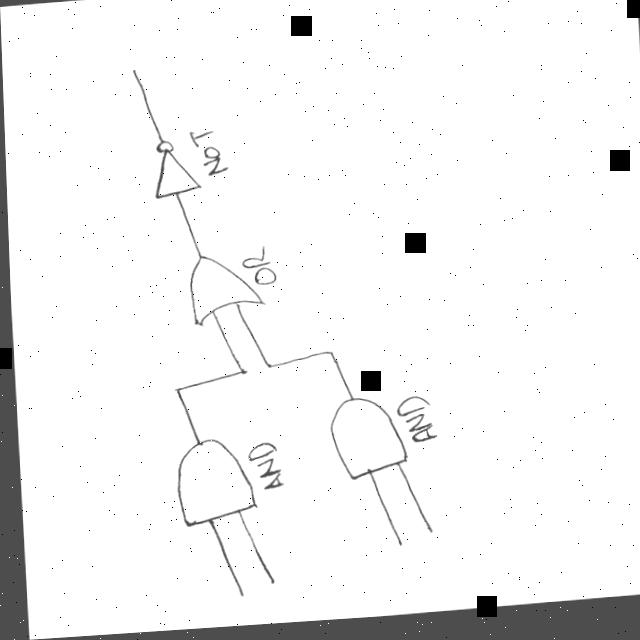junction: (314, 345, 338, 365), (166, 384, 183, 397), (258, 363, 273, 374), (233, 368, 248, 378)
terminal: (124, 63, 142, 83), (233, 591, 243, 601), (390, 543, 401, 552), (263, 579, 273, 588), (421, 531, 431, 539)
text: (383, 394, 435, 450), (180, 127, 230, 183), (233, 442, 281, 495), (226, 244, 278, 292)
